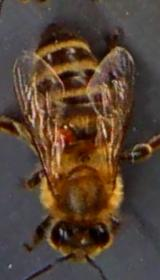varroa_mite: (56, 122, 80, 148)
